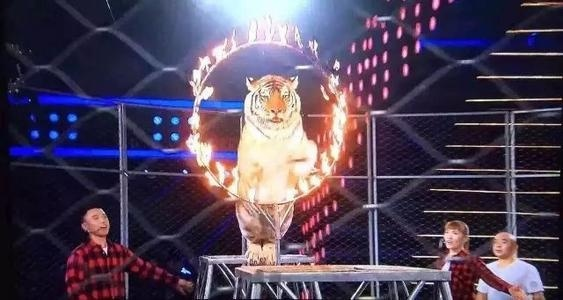fire: (181, 24, 341, 204)
